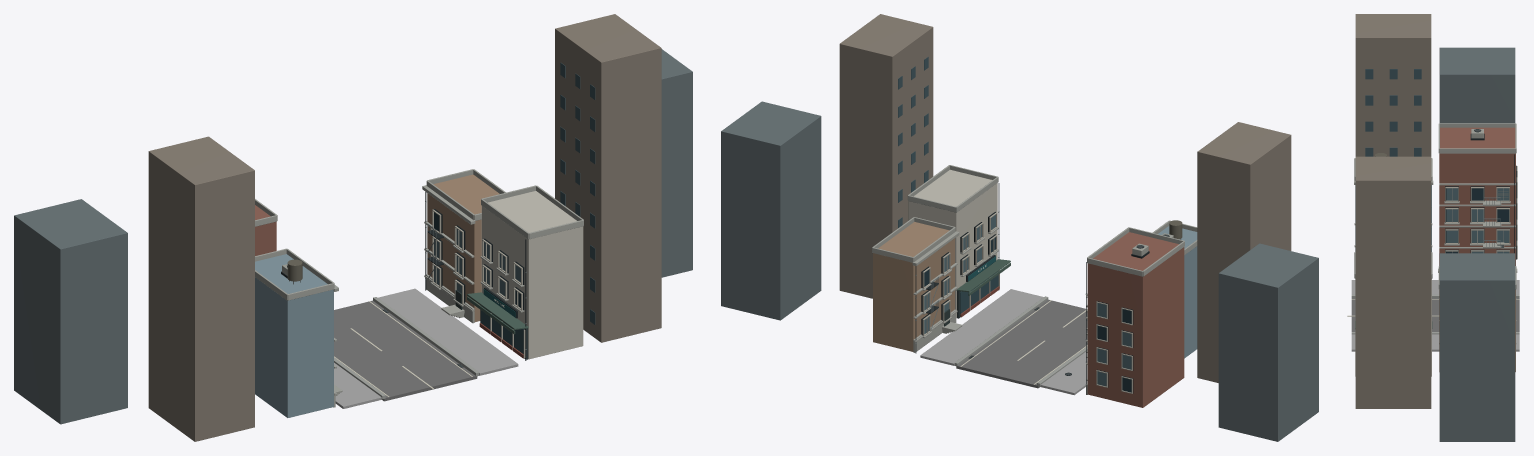
File: city_hd_15.glb
3 renders of one model, left to right at view 1: azimuth 30°, elevation 25°; view 2: azimuth 150°, elevation 25°; view 3: azimuth 270°, elevation 25°, orthographic. The views are drawn at different scales.
Visible parts, largest first — view 1: CITY_distant_3, CITY_distant_0, Mixed use shop volume, Narrow townhouse volume, CITY_PBR_asphalt, CITY_trim, CITY_PBR_pavement, Narrow townhouse volume.001, CITY_frame, CITY_distant_window, CITY_curb, CITY_wall_brick_tan (+4 smaller); view 2: CITY_distant_0, CITY_distant_3, Masonry apartment volume, Narrow townhouse volume.001, CITY_PBR_asphalt, CITY_trim, Mixed use shop volume, CITY_PBR_pavement, CITY_frame, Narrow townhouse volume, CITY_glass, CITY_distant_window (+4 smaller); view 3: CITY_distant_3, CITY_distant_0, Masonry apartment volume, CITY_trim, CITY_glass, CITY_distant_window, CITY_frame, CITY_recess, CITY_PBR_asphalt, CITY_PBR_pavement, CITY_glass_dark, CITY_wall_blue (+2 smaller).
Boxes of the visible parts, x1=… form: CITY_distant_3: x1=148, y1=14, x2=661, y2=441; CITY_distant_0: x1=14, y1=49, x2=692, y2=424; Mixed use shop volume: x1=481, y1=191, x2=583, y2=359; Narrow townhouse volume: x1=255, y1=254, x2=333, y2=417; CITY_PBR_asphalt: x1=334, y1=300, x2=477, y2=401; CITY_trim: x1=255, y1=169, x2=583, y2=407; CITY_PBR_pavement: x1=334, y1=288, x2=518, y2=408; Narrow townhouse volume.001: x1=427, y1=174, x2=499, y2=321; CITY_frame: x1=432, y1=209, x2=525, y2=358; CITY_distant_window: x1=560, y1=62, x2=595, y2=324; CITY_curb: x1=334, y1=297, x2=479, y2=399; CITY_wall_brick_tan: x1=467, y1=292, x2=528, y2=334; CITY_distant_0: x1=721, y1=101, x2=1318, y2=441; CITY_distant_3: x1=839, y1=14, x2=1291, y2=382; Masonry apartment volume: x1=1087, y1=232, x2=1184, y2=407; Narrow townhouse volume.001: x1=873, y1=222, x2=954, y2=351; CITY_PBR_asphalt: x1=956, y1=299, x2=1087, y2=388; CITY_trim: x1=872, y1=165, x2=1197, y2=394; Mixed use shop volume: x1=908, y1=169, x2=997, y2=317; CITY_PBR_pavement: x1=920, y1=289, x2=1087, y2=395; CITY_frame: x1=922, y1=212, x2=1132, y2=393; Narrow townhouse volume: x1=1158, y1=226, x2=1197, y2=358; CITY_glass: x1=924, y1=215, x2=1131, y2=386; CITY_distant_window: x1=898, y1=56, x2=928, y2=227; CITY_distant_3: x1=1355, y1=14, x2=1431, y2=408; CITY_distant_0: x1=1439, y1=47, x2=1515, y2=441; Masonry apartment volume: x1=1439, y1=127, x2=1515, y2=265; CITY_trim: x1=1354, y1=123, x2=1517, y2=343; CITY_glass: x1=1446, y1=188, x2=1508, y2=253; CITY_distant_window: x1=1365, y1=69, x2=1421, y2=156; CITY_frame: x1=1445, y1=166, x2=1517, y2=259; CITY_recess: x1=1445, y1=165, x2=1516, y2=259; CITY_PBR_asphalt: x1=1351, y1=298, x2=1519, y2=331; CITY_PBR_pavement: x1=1351, y1=280, x2=1519, y2=351; CITY_glass_dark: x1=1446, y1=188, x2=1508, y2=253; CITY_wall_blue: x1=1431, y1=129, x2=1515, y2=248.
Size of the model in its own units: 56.65 by 24.26 by 16.4.
